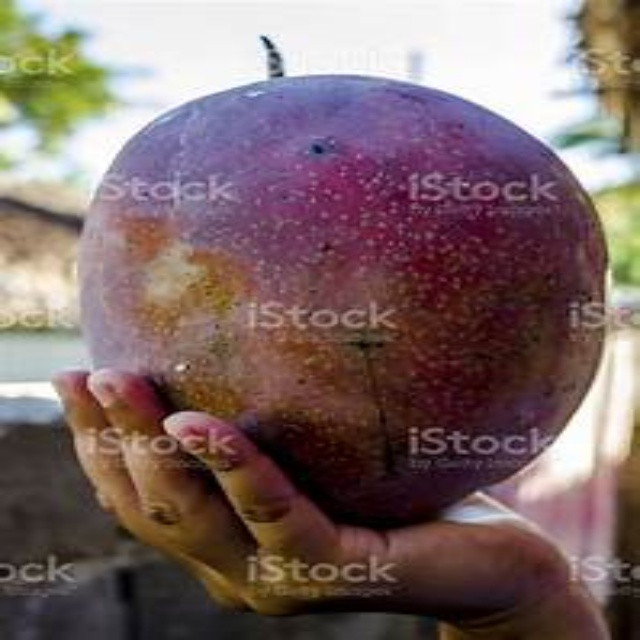mango: (80, 78, 618, 533)
